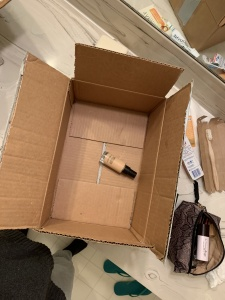innerbox: (70, 84, 152, 234)
outerbox: (1, 43, 178, 260)
product: (100, 149, 139, 181)
